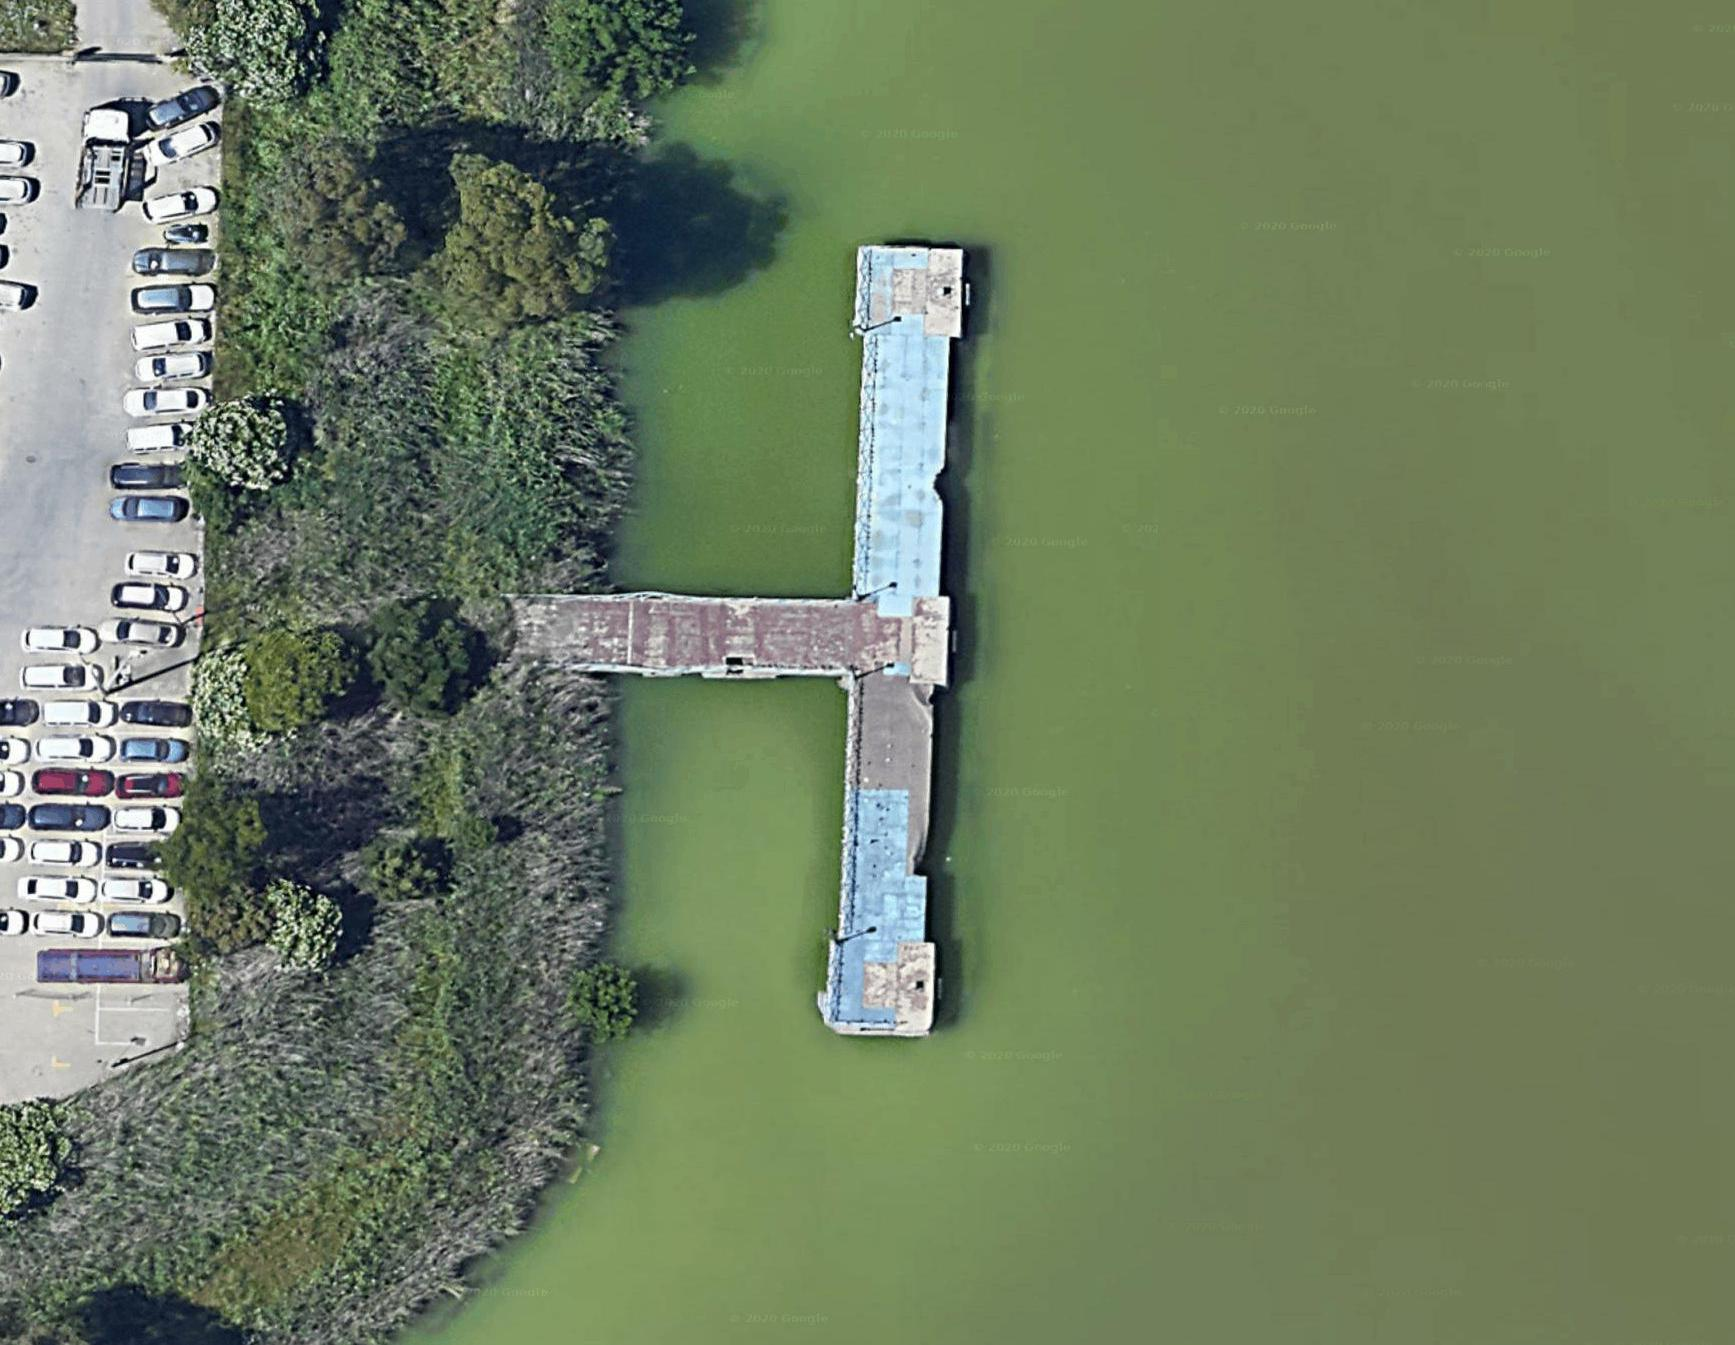harbor: (656, 206, 1083, 1080)
ship: (144, 190, 217, 223)
small-vehicle: (146, 85, 218, 132), (125, 548, 197, 582), (113, 492, 187, 524), (132, 244, 210, 275), (110, 582, 176, 613), (24, 624, 92, 653)
